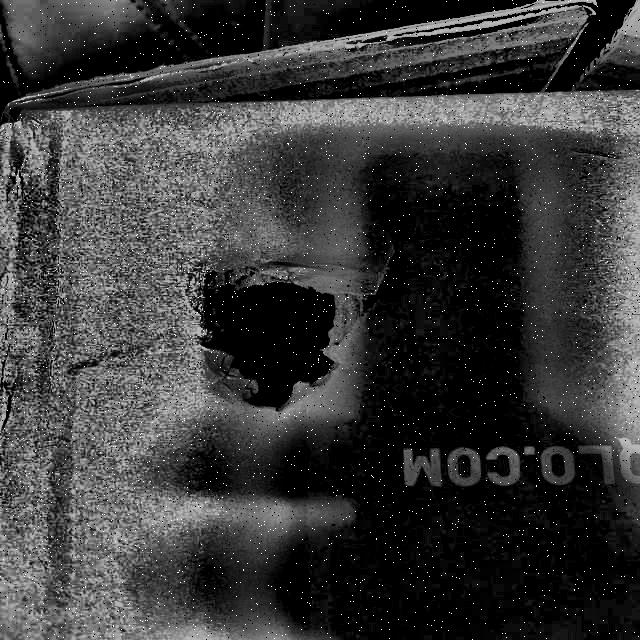box: (0, 0, 639, 639)
hole: (185, 267, 358, 422)
